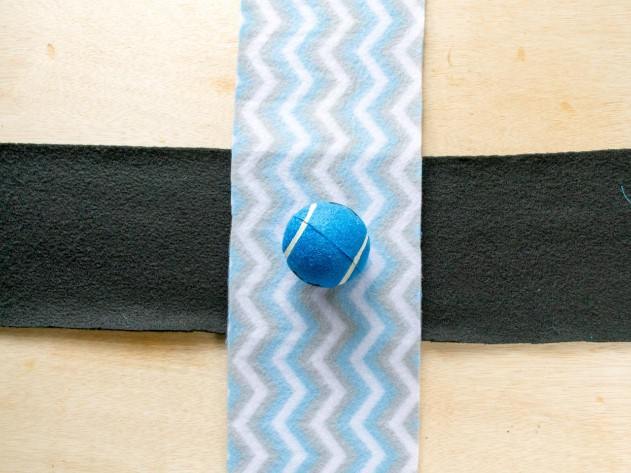blue ball: (281, 202, 372, 289)
